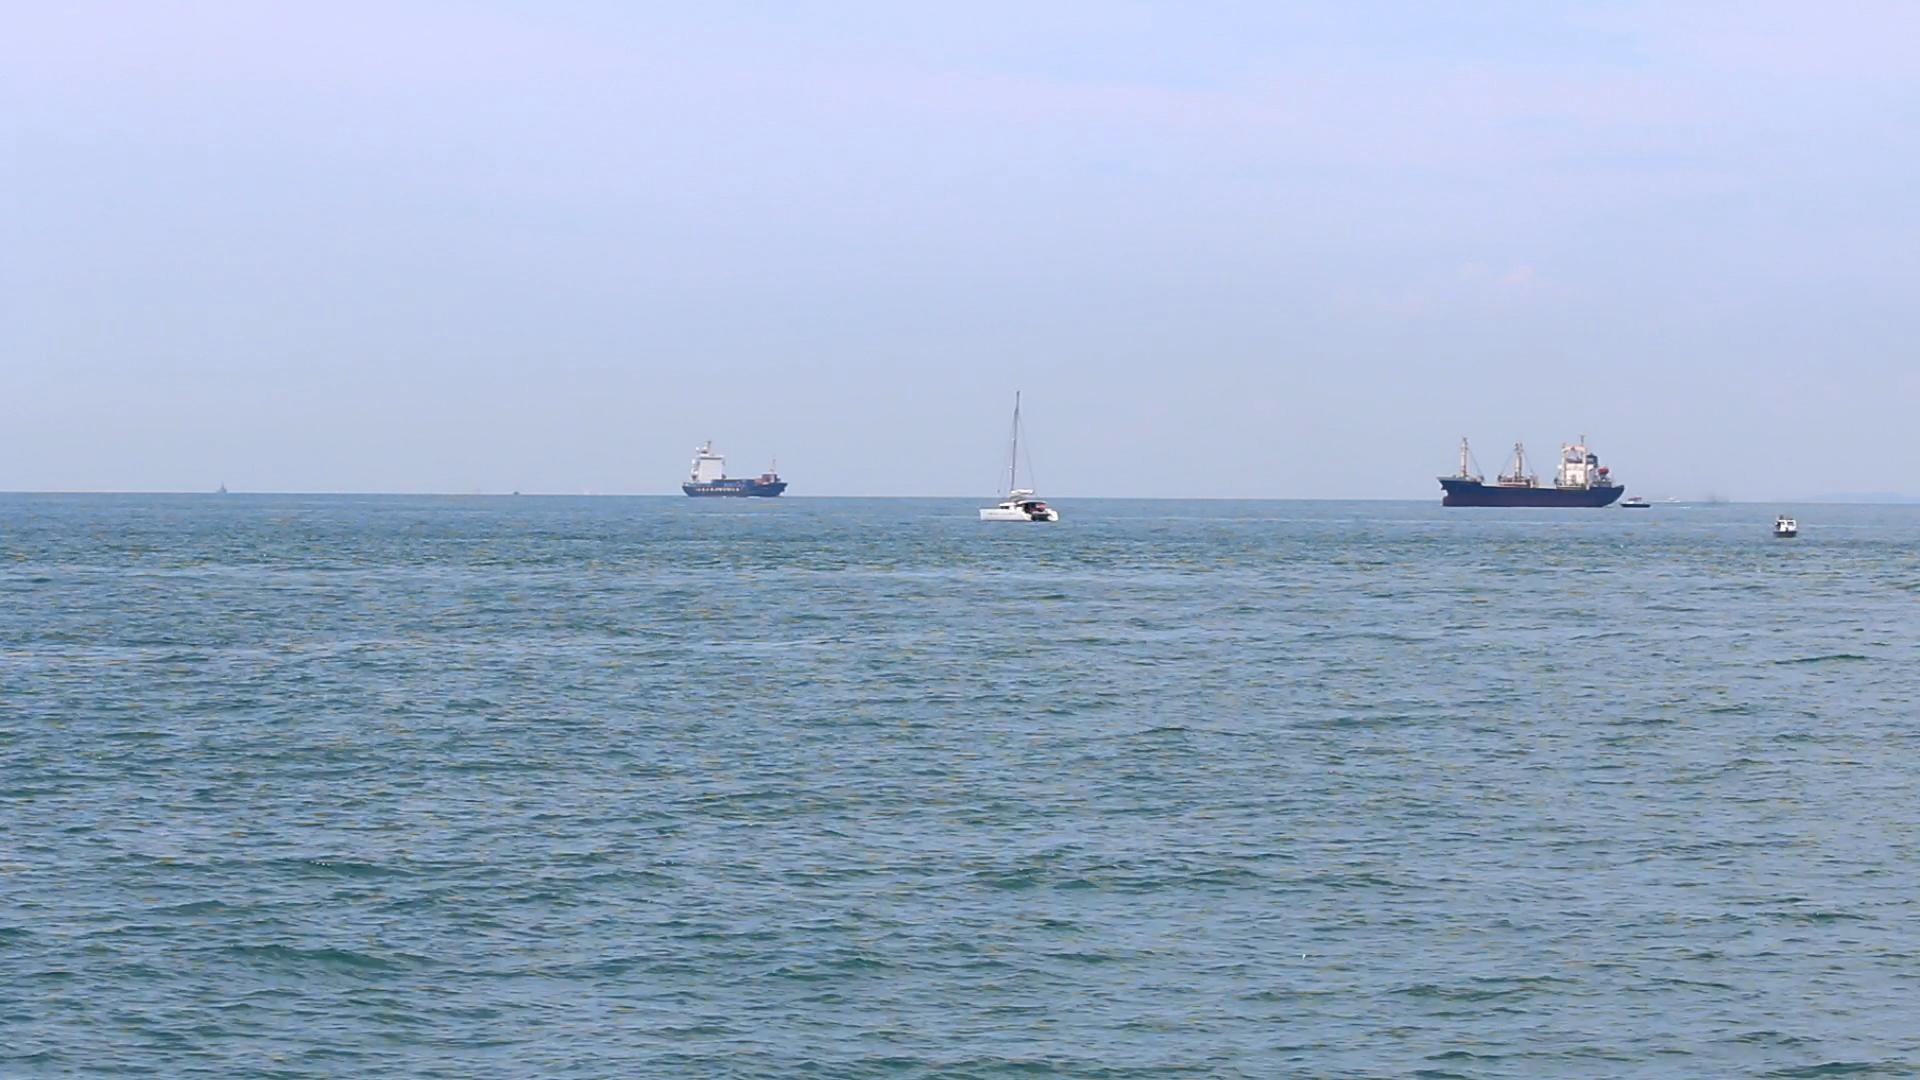Container Ship: (1436, 431, 1627, 510), (680, 439, 789, 501)
